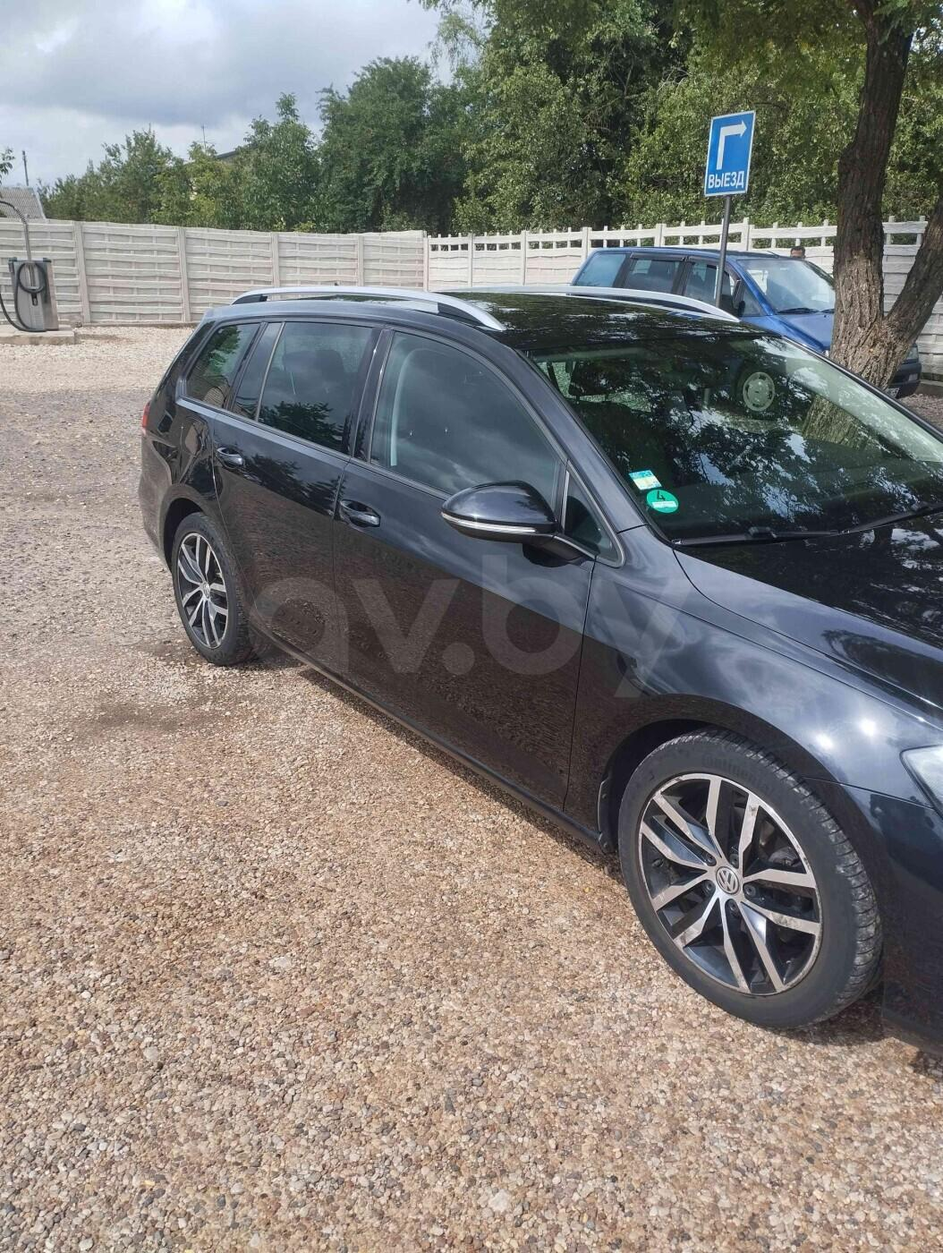Golf_2017-2021: (136, 271, 943, 1038)
